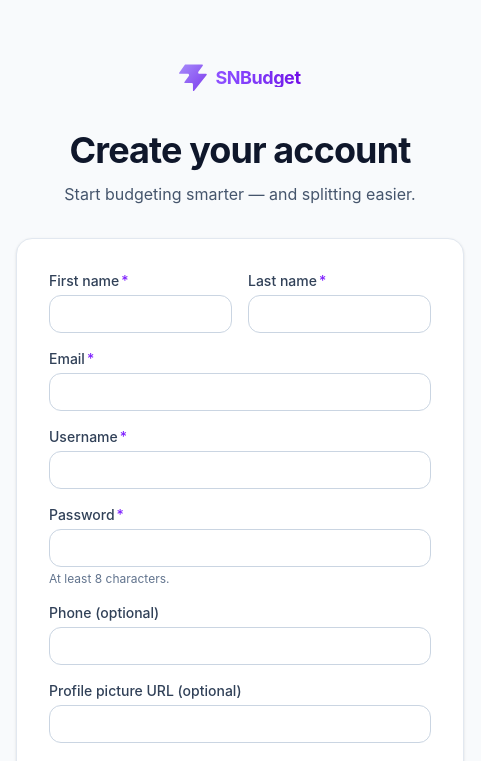
Test: SignUp page › rejects passwords shorter than 8 characters
In the password field labelled "Password*": (240, 548) [49,529,431,567], type "short"
(page scrolled)
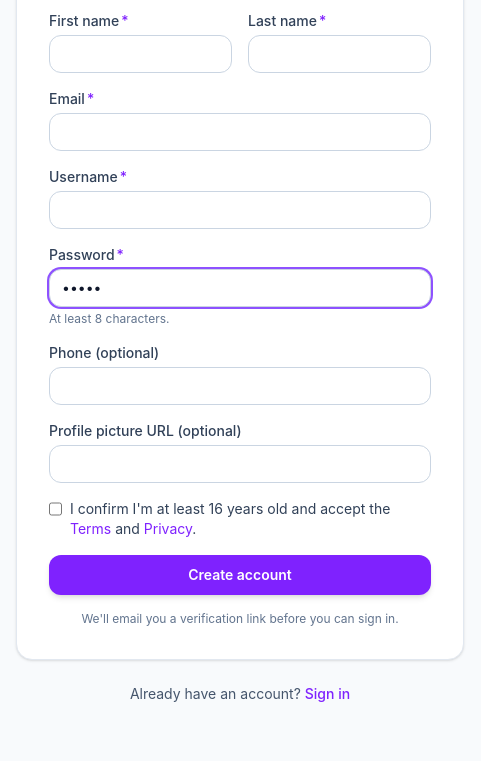
Click the button "Create account": (240, 575) [49,555,431,595]
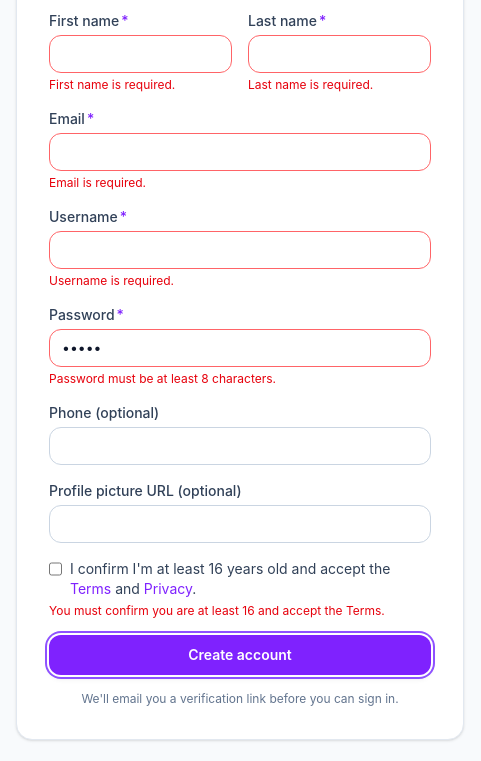
expect the text "Password must be at least 8 characters." is shown: met, box [49,371,276,386]
